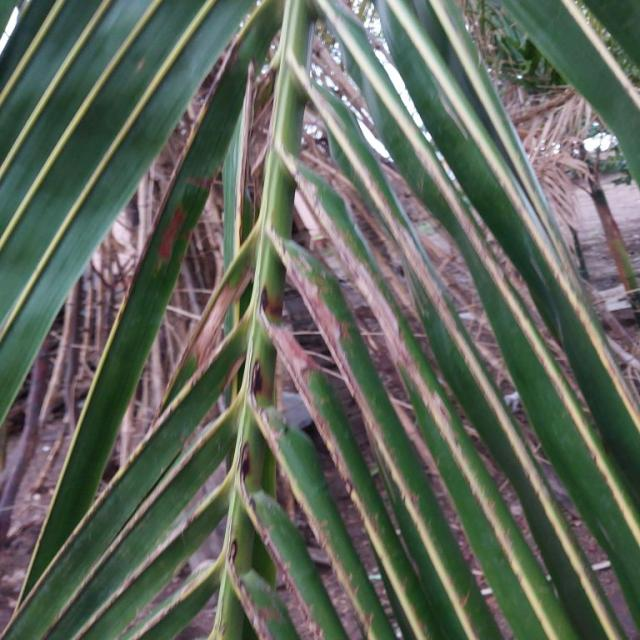gray leaf spot: (272, 235, 476, 636), (289, 161, 508, 526), (260, 320, 403, 576), (250, 405, 398, 640), (247, 502, 348, 639), (245, 586, 299, 640)
